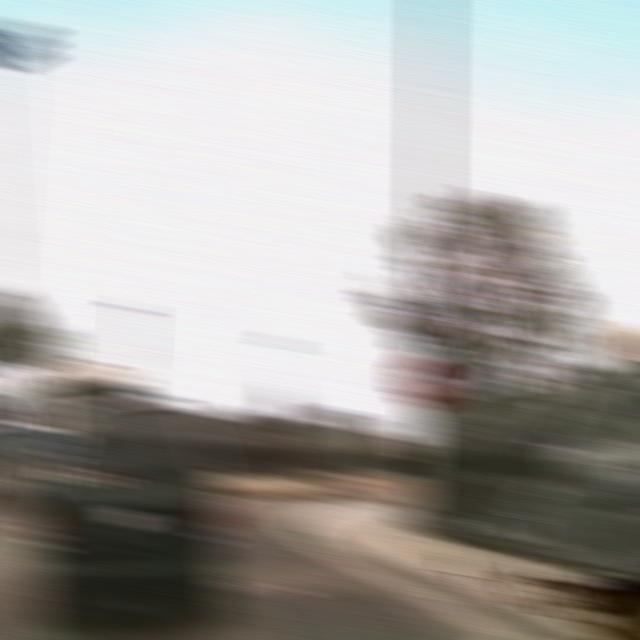stop: (396, 353, 456, 412)
